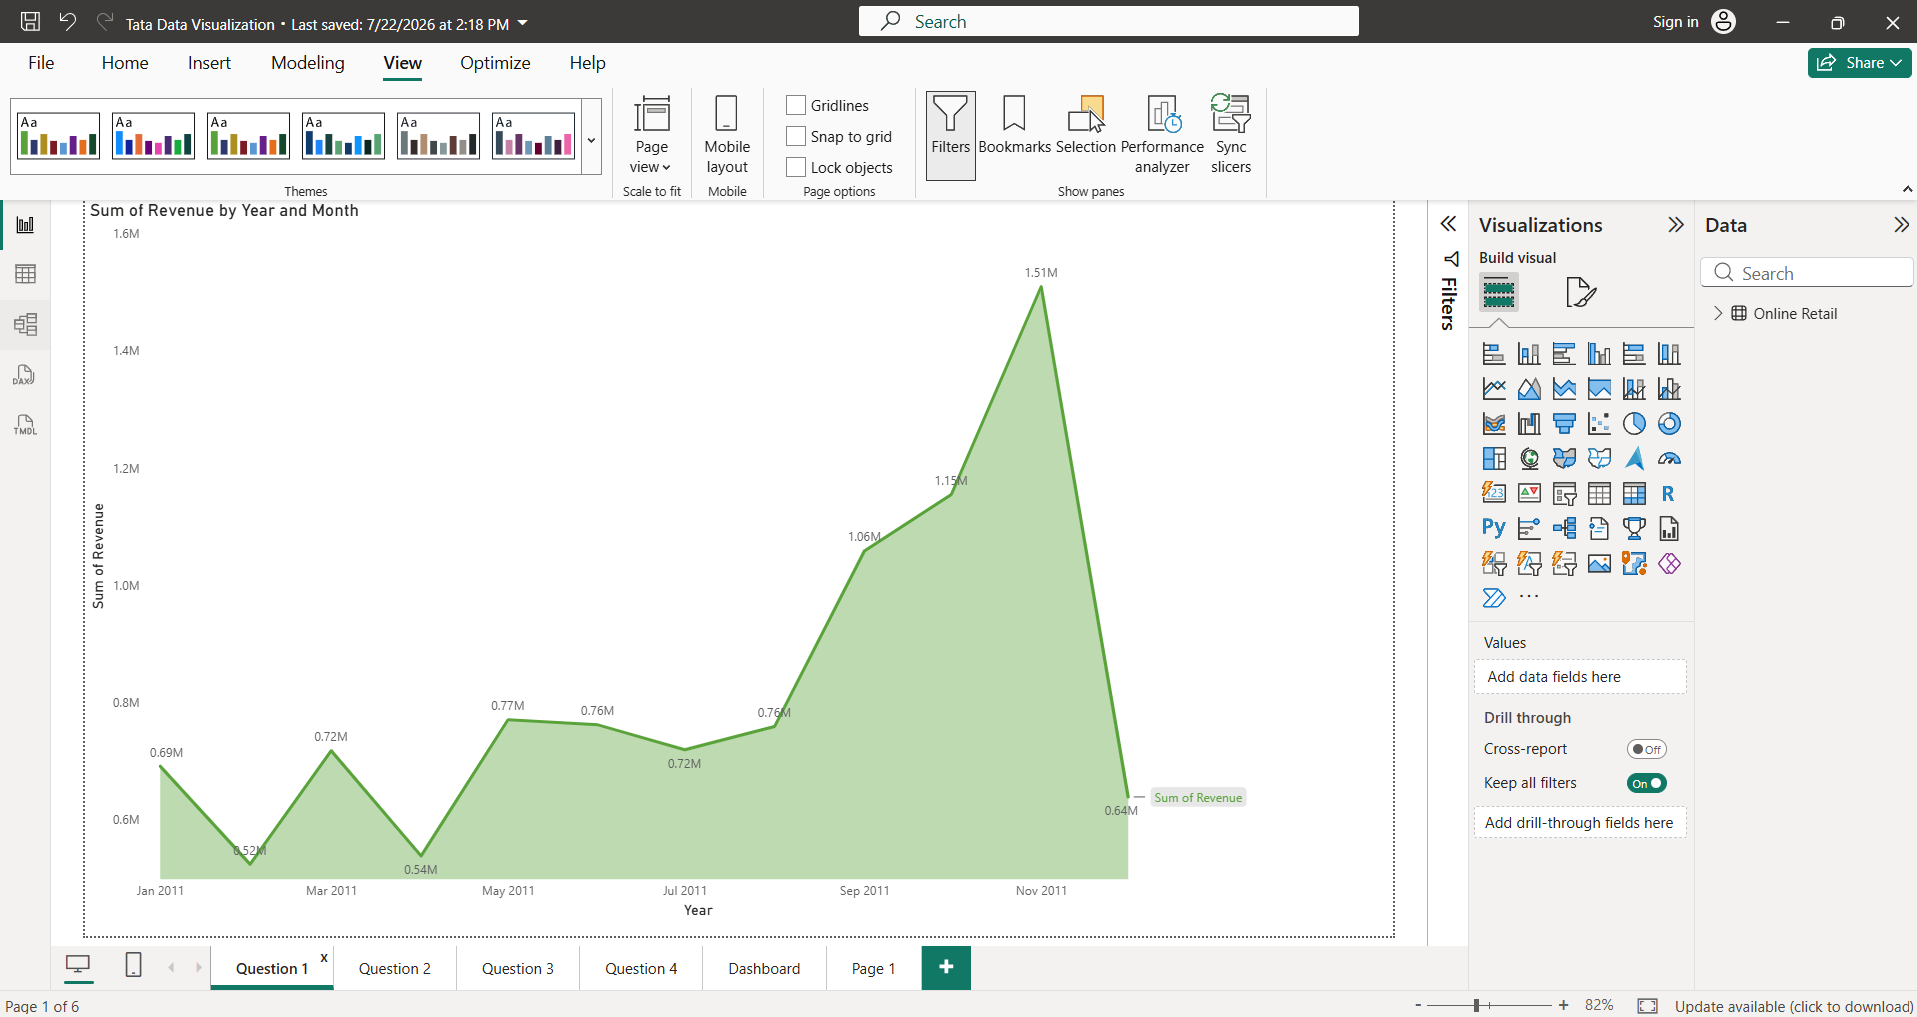

Layout of this report page (visuals, bound fields, positions):
{"tool":"powerbi","page":{"name":"Question 1","canvas":[1280,720],"ordinal":0},"visuals":[{"type":"lineChart","fields":{"Category":["Online Retail.InvoiceDate.Variation.Date Hierarchy.Year","Online Retail.InvoiceDate.Variation.Date Hierarchy.Month"],"Y":["Sum(Online Retail.Revenue)"]},"box":[0,0,1157.5,707.5],"z":0}]}

Visuals, with their boxes on the page's 1280x720 design canvas (x1, y1, x2, y2). These are canvas units, not pixel positions in the 1917x1017 screenshot, which may show the page scaled, cropped or inside an application window:
lineChart - Online Retail.InvoiceDate.Variation.Date Hierarchy.Year x Online Retail.InvoiceDate.Variation.Date Hierarchy.Month: 0, 0, 1158, 708
